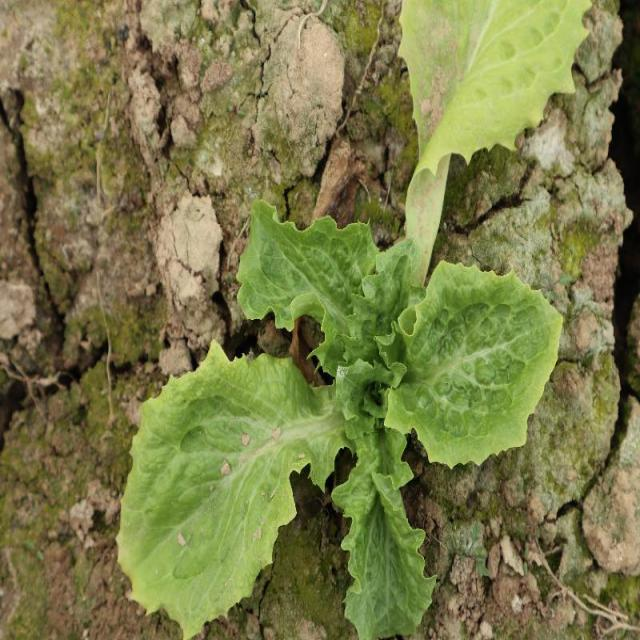crop: (118, 199, 566, 640)
